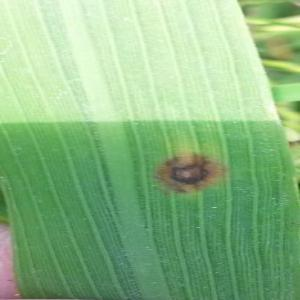Brown_Spot: (148, 148, 230, 198)
